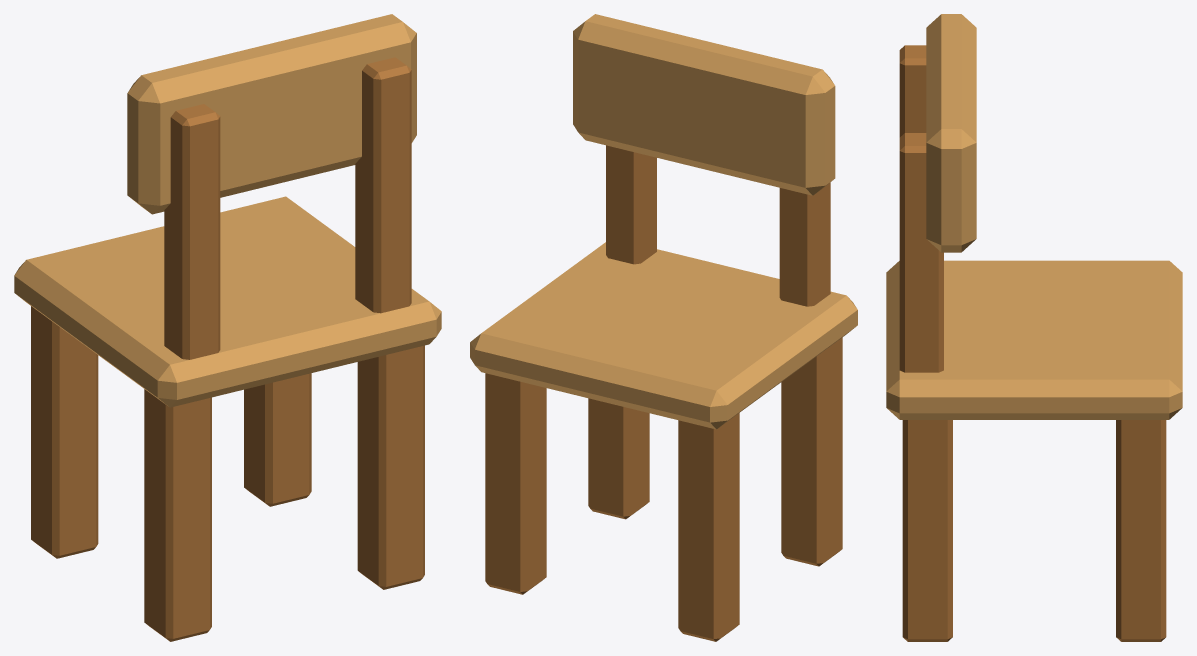
File: DiningChair.fbx
3 renders of one model, left to right at view 1: azimuth 30°, elevation 25°; view 2: azimuth 150°, elevation 25°; view 3: azimuth 270°, elevation 25°, orthographic. The views are drawn at different scales.
Parts seen in each view (by area): view 1: Body; view 2: Body; view 3: Body.
Boxes of the visible parts, box(x1,y1,x2,y2) form: Body: box(14, 14, 441, 641); Body: box(470, 14, 857, 641); Body: box(886, 14, 1182, 641).
Bounding box in the file's own units: 0.52 × 0.955 × 0.5.
